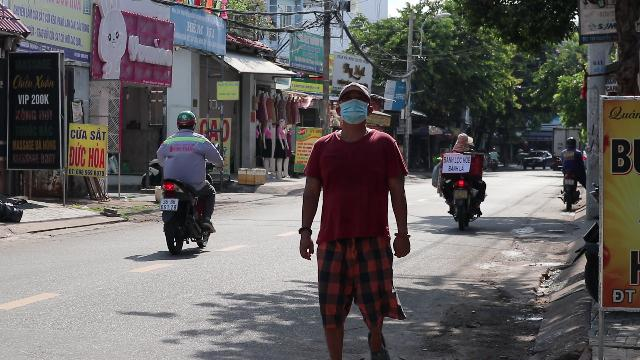helmet: (175, 109, 197, 130)
licenseplate: (159, 198, 177, 210), (454, 190, 466, 198)
motorcyclist: (155, 109, 221, 255), (436, 132, 490, 230)
